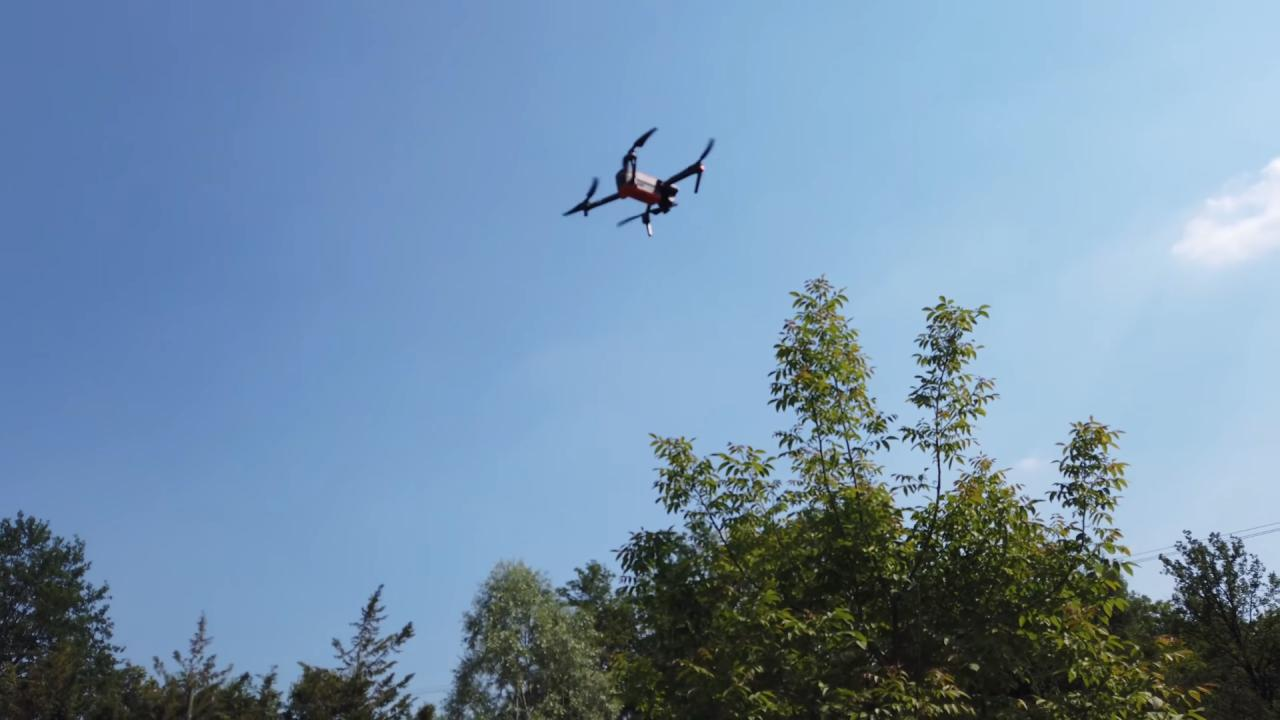Drone: (552, 113, 728, 249)
